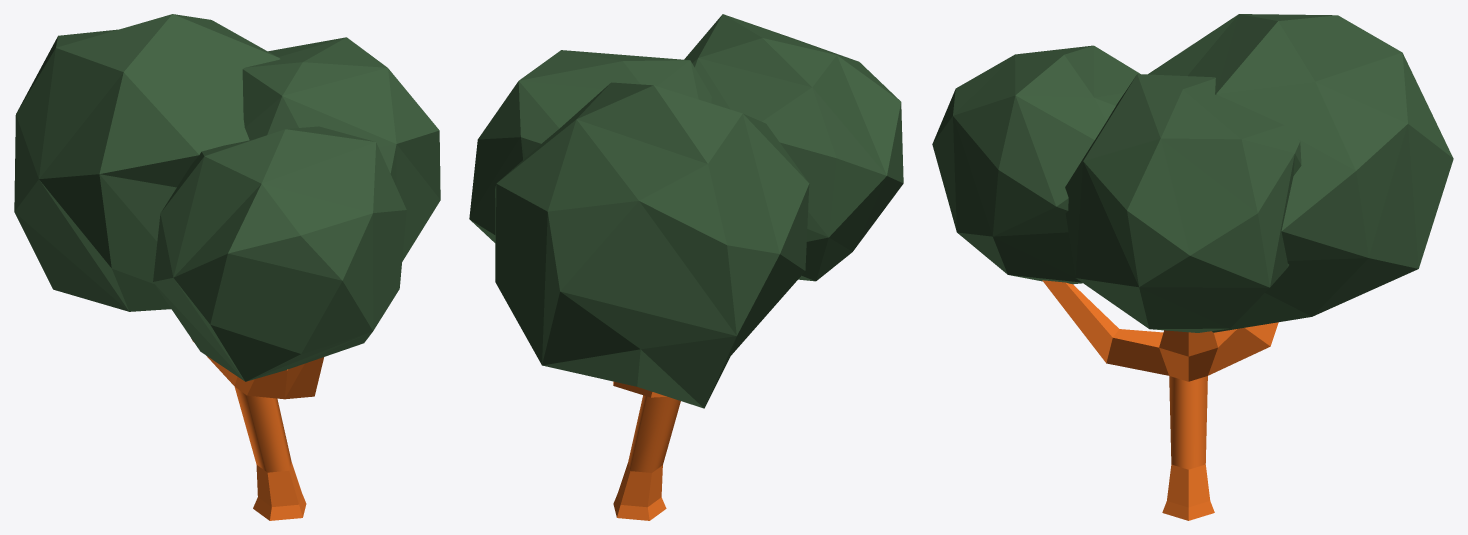
File: Tree6.FBX
3 renders of one model, left to right at view 1: azimuth 30°, elevation 25°; view 2: azimuth 150°, elevation 25°; view 3: azimuth 270°, elevation 25°, orthographic. The views are drawn at different scales.
Parts seen in each view (by area): view 1: Hedra017, Hedra015, Hedra016, Cylinder004; view 2: Hedra015, Hedra017, Hedra016, Cylinder004; view 3: Hedra015, Hedra016, Hedra017, Cylinder004.
Part boxes in pixels (<box>): Hedra017: <box>153,126,406,381</box>; Hedra015: <box>14,14,280,311</box>; Hedra016: <box>242,37,440,261</box>; Cylinder004: <box>191,338,323,520</box>; Hedra015: <box>495,82,809,408</box>; Hedra017: <box>684,14,903,281</box>; Hedra016: <box>469,50,711,242</box>; Cylinder004: <box>613,381,680,520</box>; Hedra015: <box>1148,14,1453,332</box>; Hedra016: <box>1065,74,1301,332</box>; Hedra017: <box>932,45,1140,284</box>; Cylinder004: <box>1042,280,1278,520</box>.
Size of the model in its own units: 1154 by 1556 by 1602.
